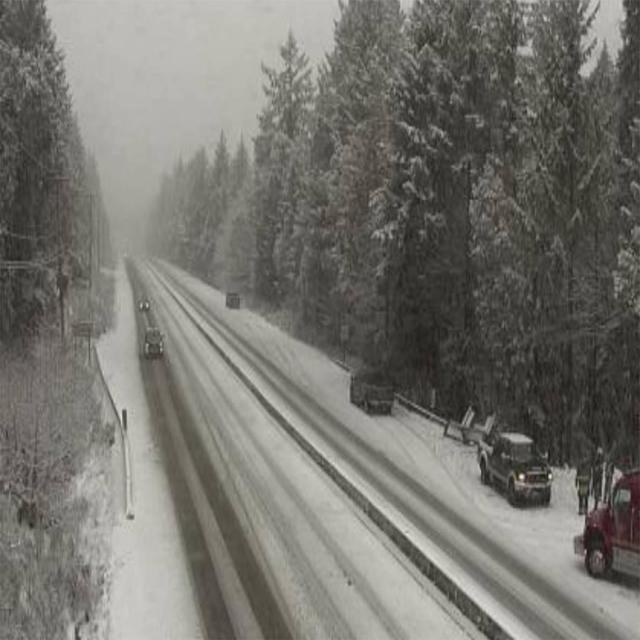Car: (143, 325, 166, 357)
Truck: (576, 472, 640, 581), (477, 428, 552, 502), (349, 366, 395, 416)
